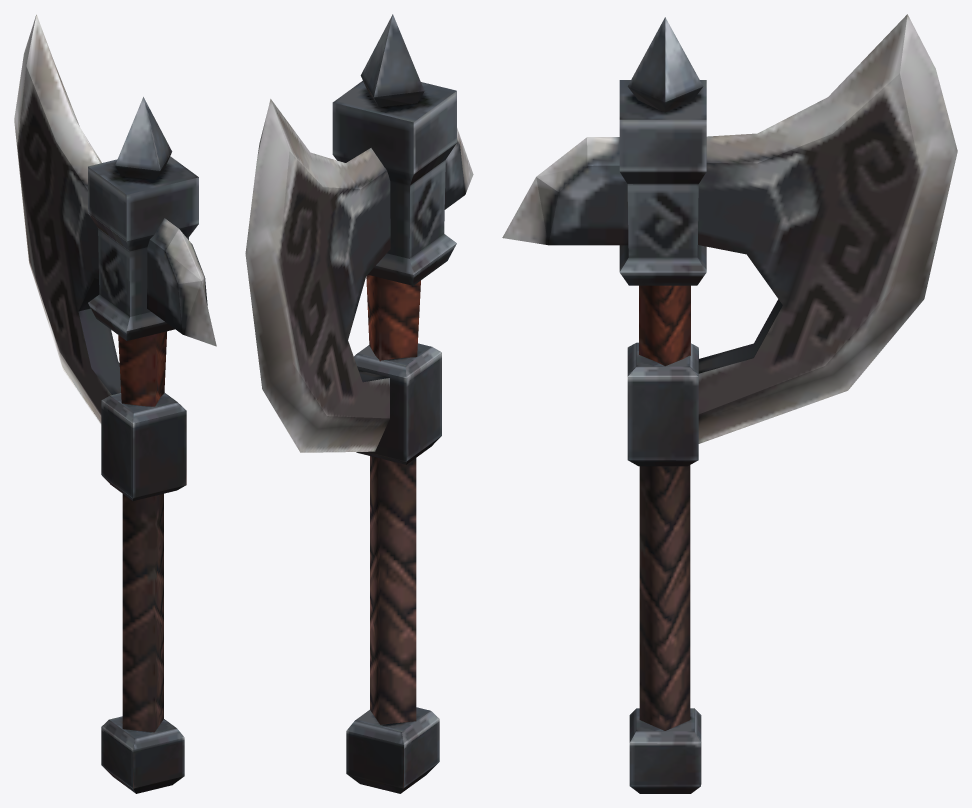
The model's file is axe13_eb6af163.glb.
3 views of the same model, side by side, from view 1: azimuth 30°, elevation 25°; view 2: azimuth 150°, elevation 25°; view 3: azimuth 270°, elevation 25° (orthographic). The views are drawn at different scales.
Bounding box in the file's own units: 0.155 × 1.4 × 0.7519.
Materials: 1 (1 with a texture image).
